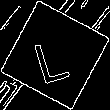L_N: (33, 26, 77, 84)
